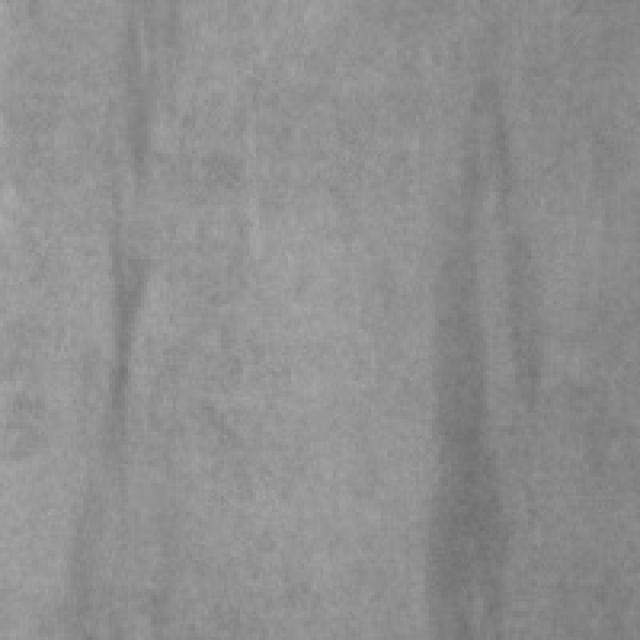inclusion: (426, 74, 518, 630), (100, 182, 167, 422)
